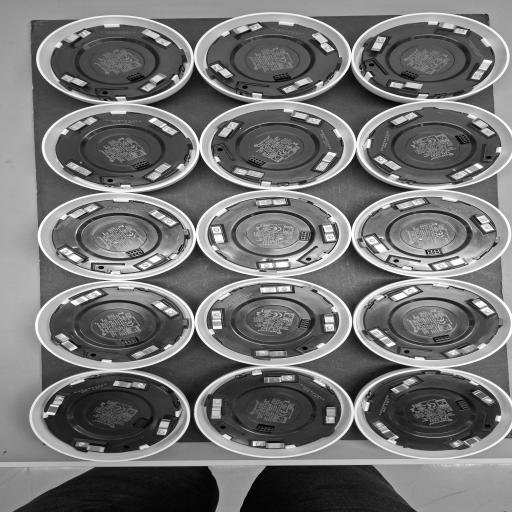konnektor: (423, 246, 447, 257), (396, 70, 422, 80), (432, 333, 455, 344), (453, 399, 470, 412), (247, 156, 267, 167), (254, 424, 276, 434), (296, 318, 312, 331), (120, 336, 140, 346), (132, 418, 150, 429), (126, 72, 145, 82), (131, 160, 150, 170), (456, 133, 471, 145), (126, 249, 144, 257), (272, 73, 291, 80), (299, 230, 310, 242)
yaysiz: (371, 420, 404, 443), (444, 340, 483, 359), (144, 116, 180, 136), (385, 376, 421, 396), (384, 285, 420, 304), (451, 162, 485, 182), (281, 76, 318, 94), (65, 203, 100, 222), (140, 28, 173, 48), (56, 29, 92, 47), (69, 290, 105, 308), (369, 328, 401, 348), (308, 31, 337, 53), (362, 235, 392, 256), (447, 432, 484, 449), (67, 116, 99, 135), (147, 208, 179, 227), (57, 247, 89, 266), (146, 162, 176, 182), (466, 296, 496, 316), (58, 74, 93, 91), (140, 72, 168, 93), (469, 212, 497, 233), (387, 111, 421, 128), (470, 57, 494, 81), (287, 110, 323, 126), (137, 252, 169, 270), (149, 298, 179, 317), (390, 197, 428, 212), (75, 440, 114, 454), (433, 256, 469, 271), (468, 118, 496, 137), (54, 333, 82, 352), (373, 154, 402, 172), (469, 388, 498, 406), (64, 162, 96, 178), (315, 150, 338, 172), (131, 344, 162, 360), (44, 394, 64, 418), (250, 438, 290, 450), (435, 21, 469, 35), (210, 62, 236, 80), (388, 80, 426, 92), (216, 121, 240, 140), (209, 308, 228, 332), (232, 167, 266, 180), (252, 348, 292, 359), (108, 379, 148, 390), (318, 221, 338, 242), (317, 311, 336, 333), (230, 23, 264, 35), (367, 36, 389, 54), (250, 198, 288, 208), (154, 416, 172, 437), (212, 398, 228, 421), (211, 226, 228, 246), (260, 374, 296, 383), (259, 262, 298, 270), (254, 286, 292, 294), (323, 404, 338, 424)
